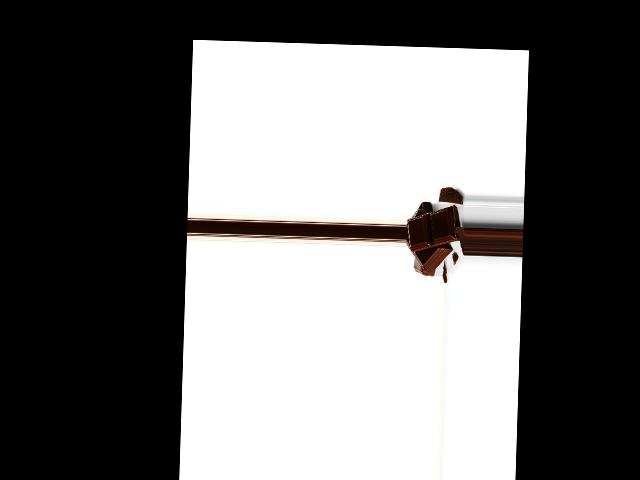chocolate: (408, 205, 459, 253)
